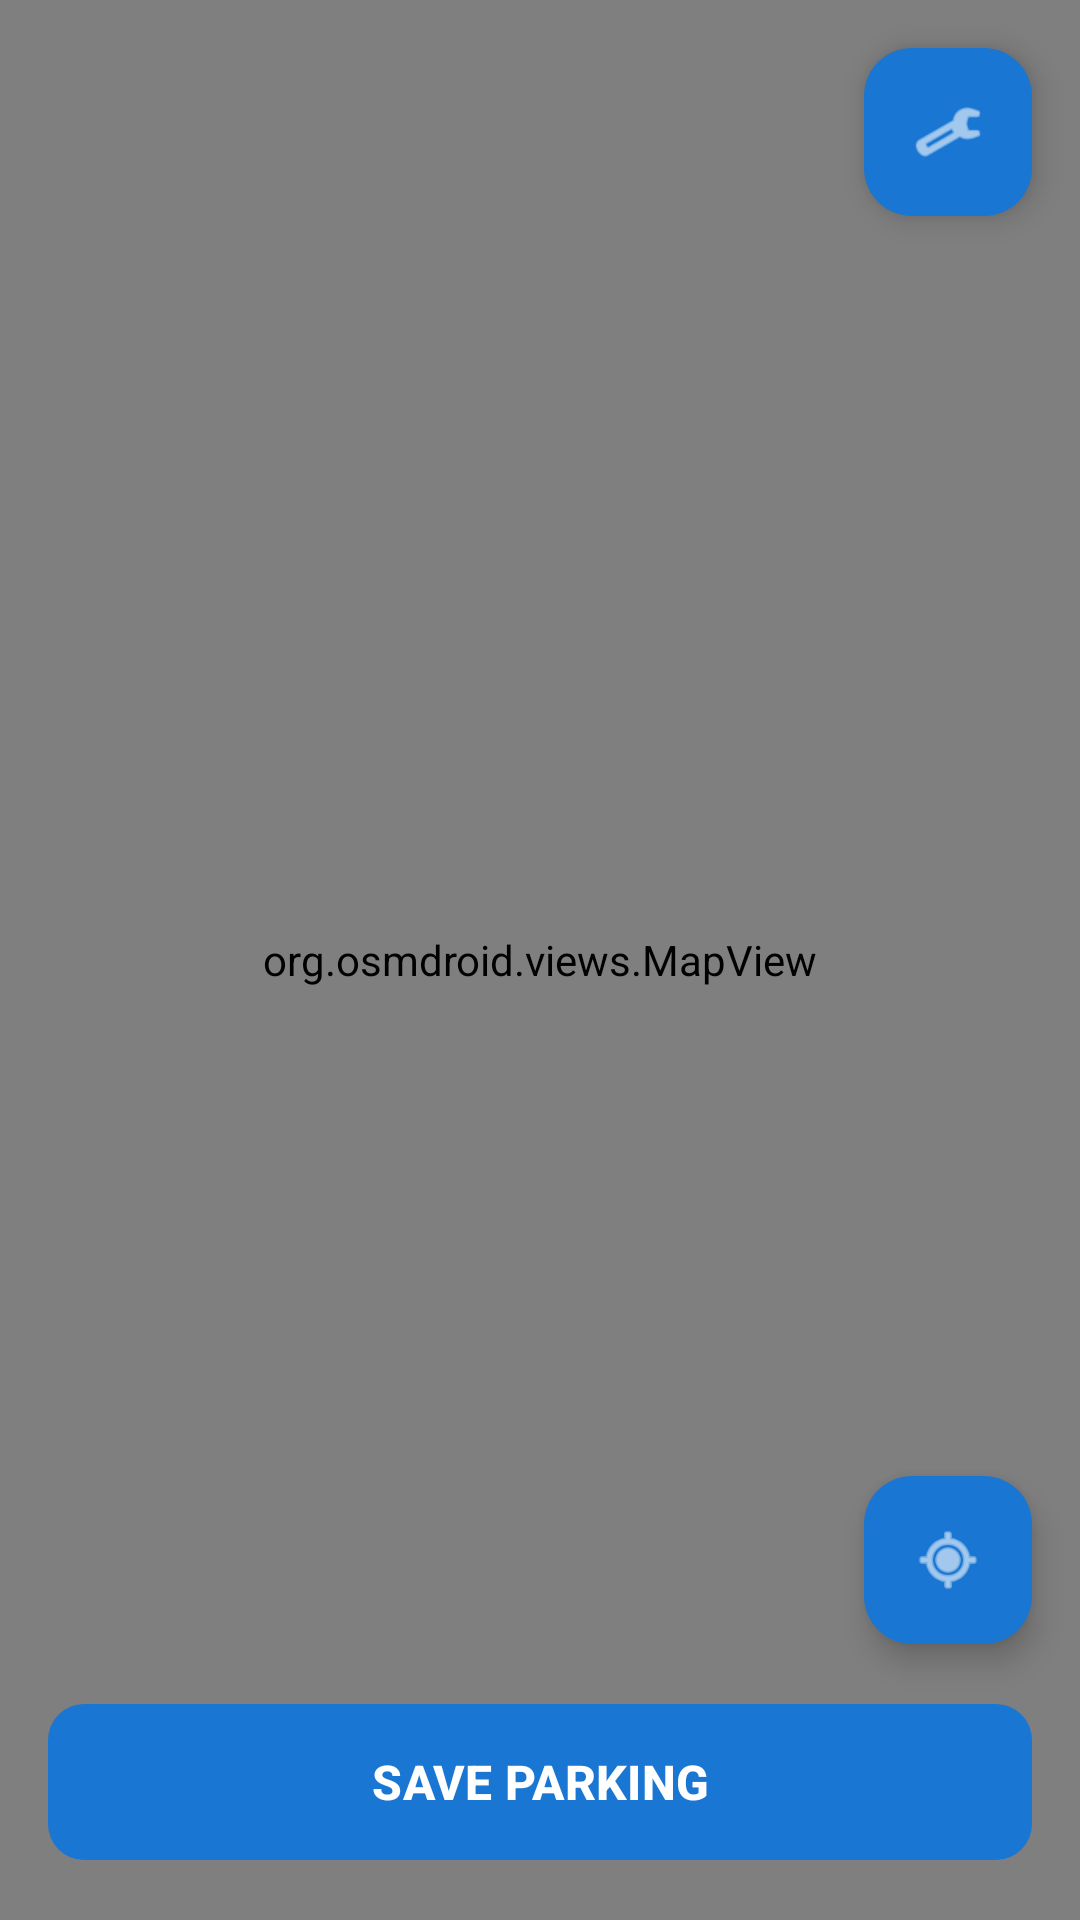

Icon bounding boxes for this 1080 × 1920 phone screenshot, format {"x1": x1, "y1": y1, "x2": x2, "y2": y2}:
Center map: {"x1": 864, "y1": 1476, "x2": 1032, "y2": 1644}
Settings: {"x1": 864, "y1": 48, "x2": 1032, "y2": 216}
